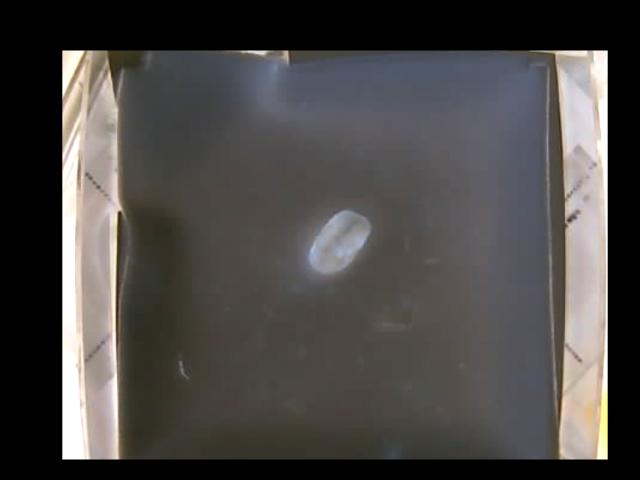Pebble: (306, 208, 369, 274)
